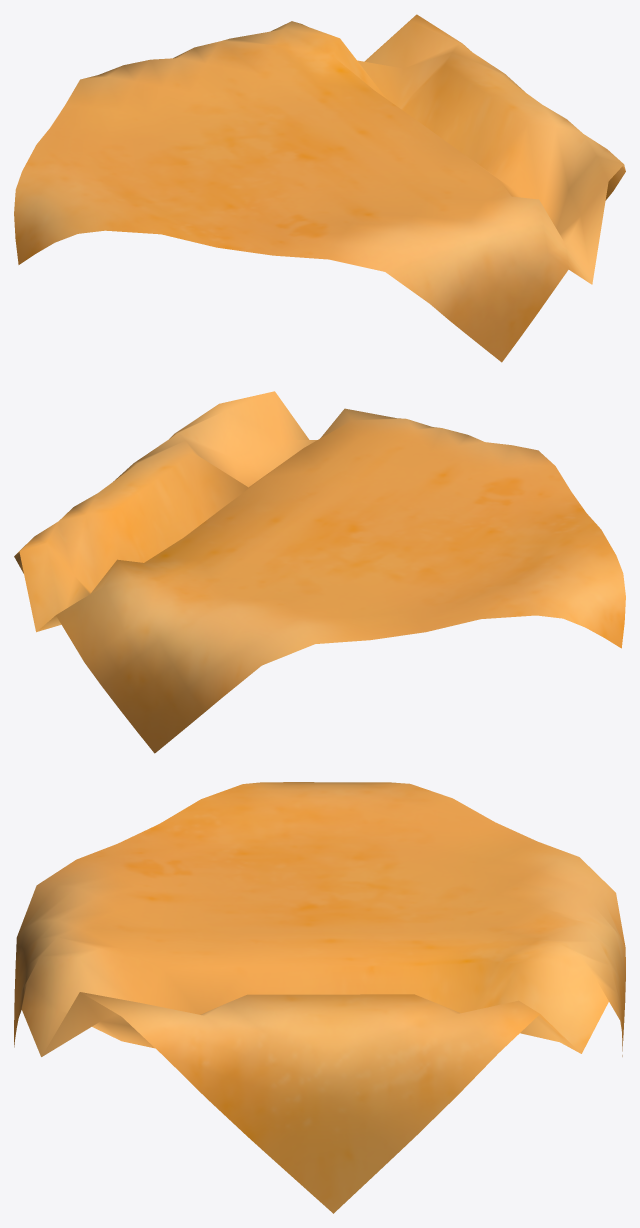
The model's file is clothwardrobe.fbx.
3 renders of one model, top to bottom at view 1: azimuth 30°, elevation 25°; view 2: azimuth 150°, elevation 25°; view 3: azimuth 270°, elevation 25°, orthographic. The views are drawn at different scales.
Visible parts, largest first — view 1: clothwardrobe; view 2: clothwardrobe; view 3: clothwardrobe.
Boxes of the visible parts, <box> form: clothwardrobe: <box>14,14,625,362</box>; clothwardrobe: <box>14,391,625,753</box>; clothwardrobe: <box>14,782,625,1213</box>.
Bounding box in the file's own units: 194 × 62.94 × 185.
